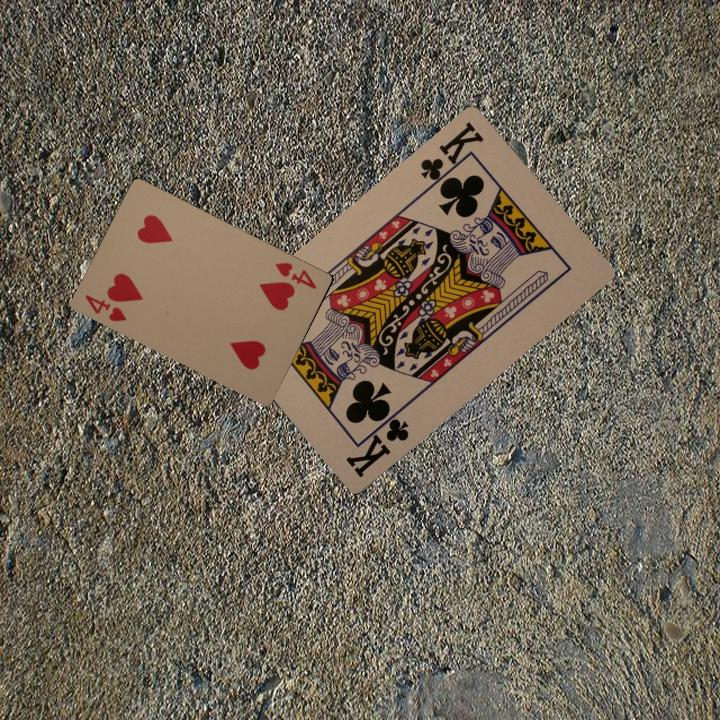4h: (271, 258, 319, 292), (81, 290, 129, 324)
Kc: (416, 116, 487, 193), (341, 405, 412, 481)
